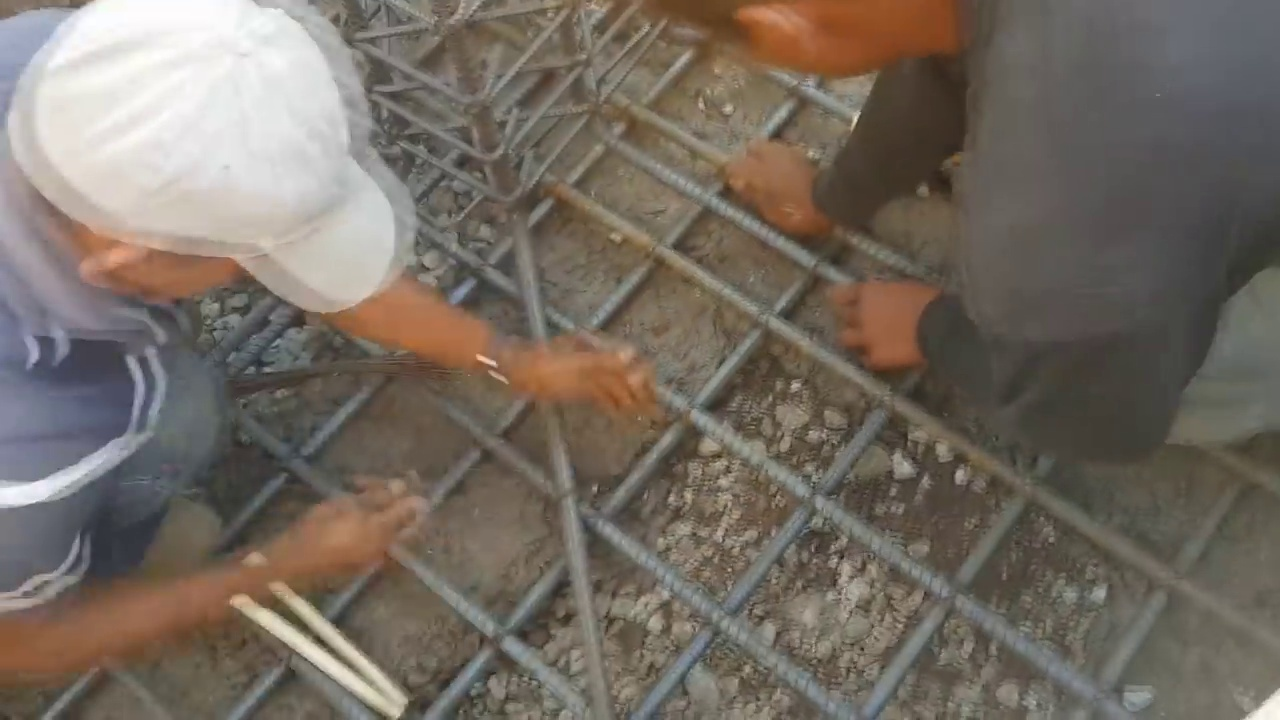helmet-off: (15, 2, 397, 318), (670, 3, 994, 93)
person: (0, 3, 667, 695), (674, 8, 1280, 484)
